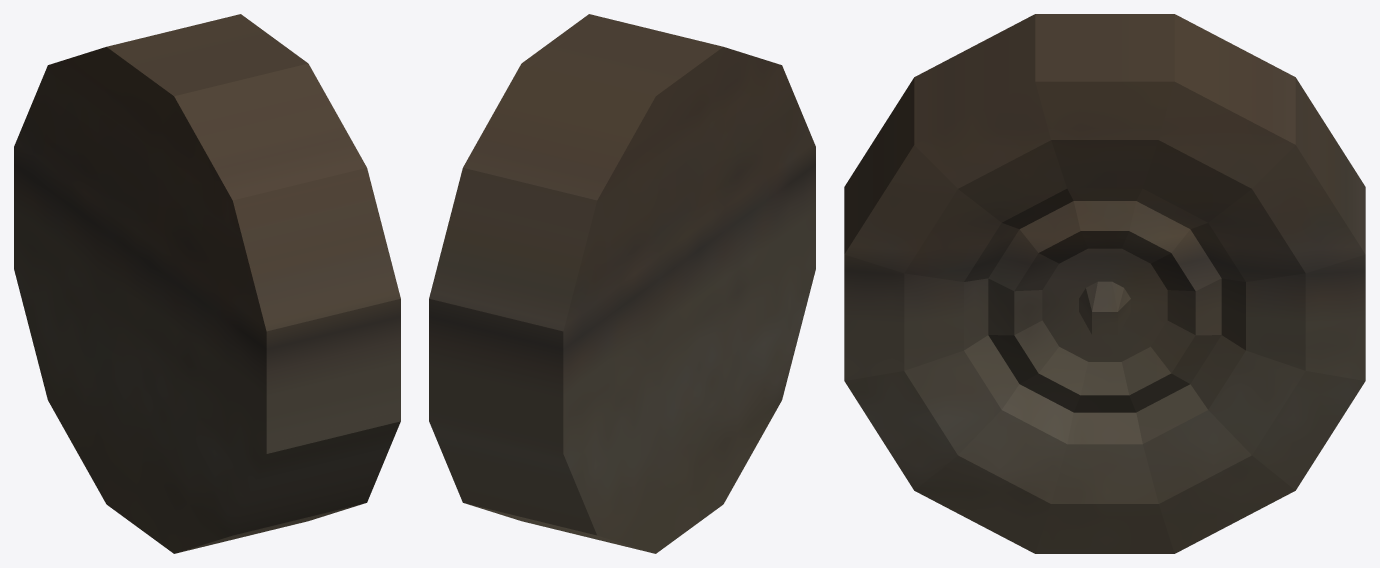
Rendered from bz_buhanka_01_wheel.fbx.
3 views of the same model, side by side, from view 1: azimuth 30°, elevation 25°; view 2: azimuth 150°, elevation 25°; view 3: azimuth 270°, elevation 25° (orthographic). The views are drawn at different scales.
Visible parts, largest first — view 1: bz_buhanka_01_wheel; view 2: bz_buhanka_01_wheel; view 3: bz_buhanka_01_wheel.
Part boxes in pixels (box(x1,y1,x2,y2)): bz_buhanka_01_wheel: box(14, 14, 400, 553); bz_buhanka_01_wheel: box(429, 14, 815, 553); bz_buhanka_01_wheel: box(844, 14, 1365, 553).
Bounding box in the file's own units: 0.2591 × 0.7778 × 0.7778.
